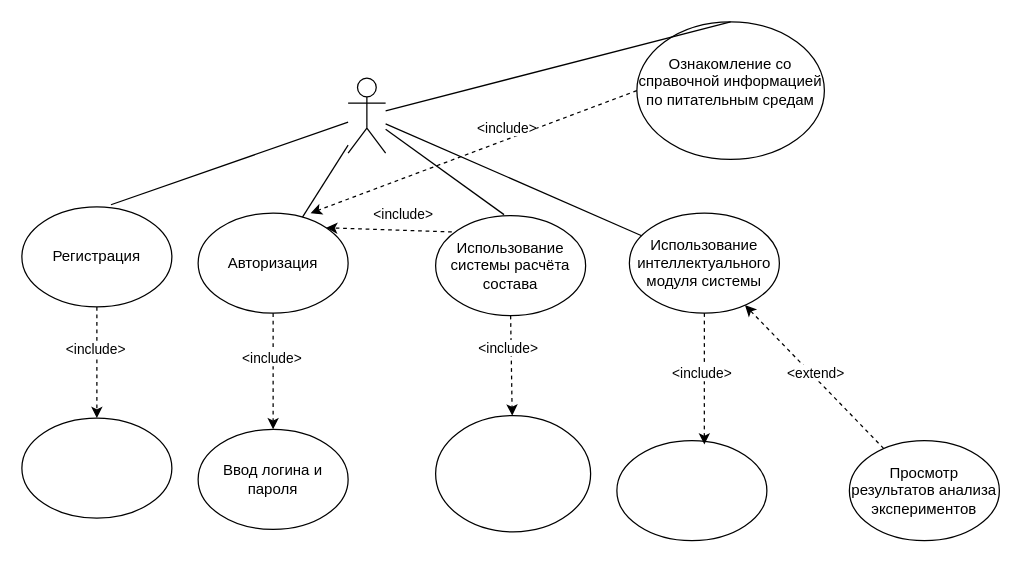
Image size: 1021x563. Some labels were removed from this diagram. Each missing label, with the centre of its shape:
"Ввод данных об экспериментах" goes at (691,490).
"Ввод логина и пароля, загрузка аватара" goes at (96,467).
"Выбор питательной среды, объёма и концентрации" goes at (512,473).
"Пользователь" goes at (366,115).
